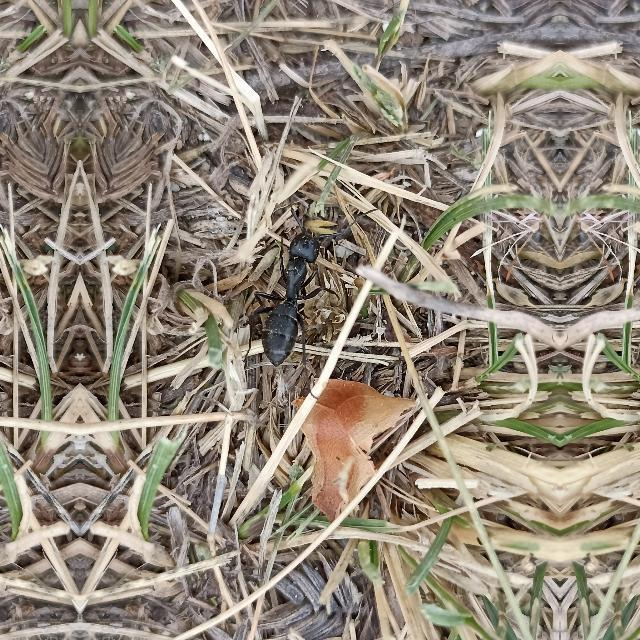Camponotus: (240, 225, 350, 388)
